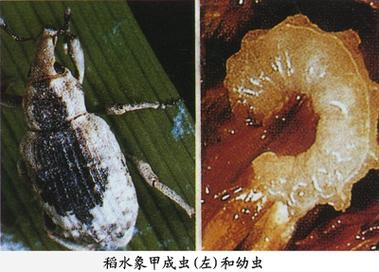Curculionidae: (1, 6, 195, 251)
